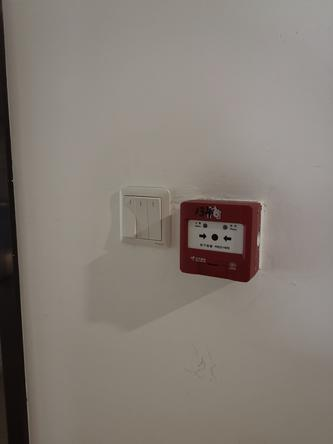switch: (146, 194, 165, 241), (121, 193, 138, 240), (135, 193, 150, 240)
